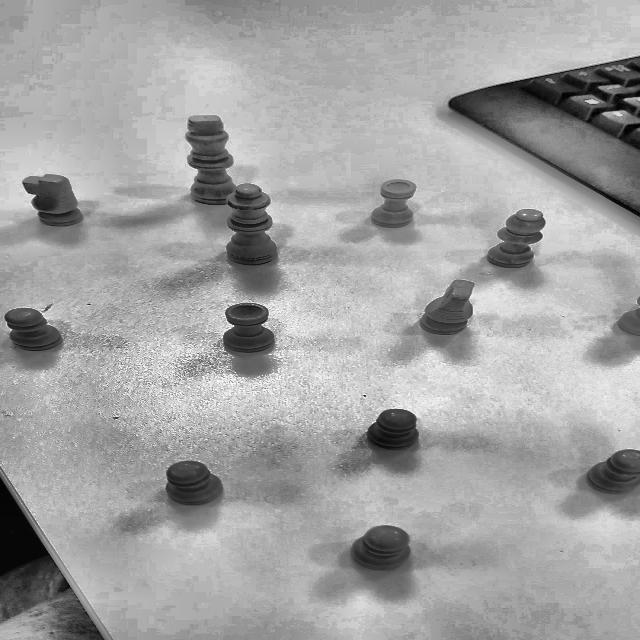white-bishop: (486, 197, 551, 273)
white-king: (175, 111, 247, 209)
white-knight: (9, 171, 105, 233), (421, 270, 489, 349)
white-pawn: (338, 518, 430, 582), (3, 294, 73, 369), (153, 462, 240, 516), (348, 402, 428, 458), (585, 433, 640, 498)
white-queen: (219, 186, 286, 272)
white-rook: (209, 298, 287, 364), (372, 176, 432, 237)
